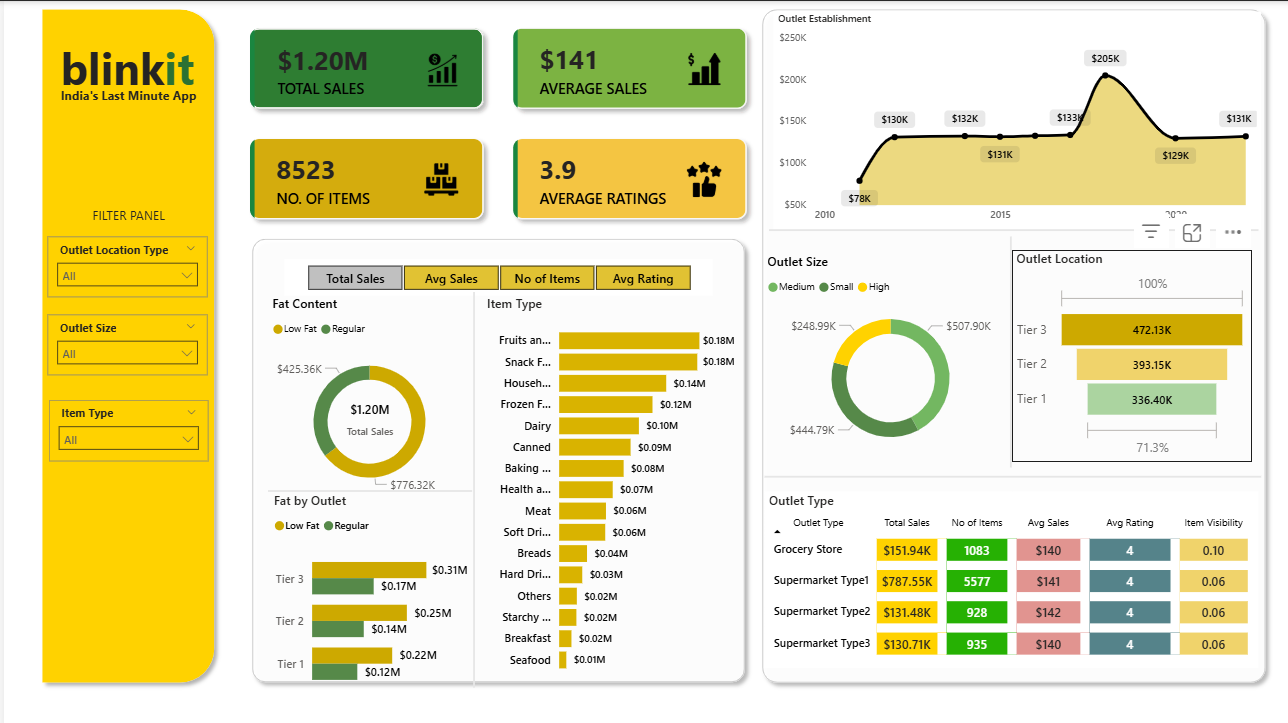

The page's visual inventory and layout, read from the dashboard file:
{"tool":"powerbi","page":{"name":"Page 1","canvas":[1400,800],"ordinal":0},"visuals":[{"type":"shape","box":[32.6,0,205,750],"z":0},{"type":"textbox","box":[48,34,174,84],"z":1000},{"type":"textbox","box":[10,88.8,251.2,37.5],"z":2000},{"type":"cardVisual","fields":{"Data":["BlinkIT Grocery Data.Total Sales","BlinkIT Grocery Data.Avg Sales","BlinkIT Grocery Data.No of Items","BlinkIT Grocery Data.Avg Rating"]},"box":[238.3,0,598.3,266.7],"z":3000},{"type":"shape","box":[261.7,250,553.3,500],"z":4000},{"type":"donutChart","title":"Fat Content","fields":{"Y":["BlinkIT Grocery Data.Total Sales"],"Category":["BlinkIT Grocery Data.Item Fat Content"]},"box":[287.8,320,220,230],"z":5000},{"type":"slicer","fields":{"Values":["Metrics.Metrics"]},"box":[305,280,465,40],"z":6000},{"type":"card","fields":{"Values":["BlinkIT Grocery Data.Total Sales"]},"box":[313.3,400,168.9,107.8],"z":7000},{"type":"clusteredBarChart","title":"Fat by Outlet ","fields":{"Y":["BlinkIT Grocery Data.Total Sales"],"Category":["BlinkIT Grocery Data.Outlet Location Type"],"Series":["BlinkIT Grocery Data.Item Fat Content"]},"box":[288.3,533.3,220,230],"z":8000},{"type":"shape","box":[286.5,515.1,221.9,34.8],"z":9000},{"type":"shape","box":[485,316.7,53.3,430],"z":10000},{"type":"barChart","title":"Item Type","fields":{"Y":["BlinkIT Grocery Data.Total Sales"],"Category":["BlinkIT Grocery Data.Item Type"]},"box":[520,320,278.6,420],"z":11000},{"type":"shape","box":[815,0,565,750],"z":12000},{"type":"lineChart","title":"Outlet Establishment","fields":{"Category":["BlinkIT Grocery Data.Outlet Establishment Year"],"Y":["BlinkIT Grocery Data.Total Sales"]},"box":[835.7,11.4,530,237.1],"z":13000},{"type":"shape","box":[831,231,532,35],"z":14000},{"type":"donutChart","title":"Outlet Size","fields":{"Y":["BlinkIT Grocery Data.Total Sales"],"Category":["BlinkIT Grocery Data.Outlet Size"]},"box":[824.4,273.3,276.7,226.7],"z":15000},{"type":"shape","box":[1075.6,256.7,36.7,251.1],"z":16000},{"type":"funnel","title":"Outlet Location","fields":{"Category":["BlinkIT Grocery Data.Outlet Location Type"],"Y":["Sum(BlinkIT Grocery Data.Sales)"]},"box":[1096,270,260,230],"z":17000},{"type":"shape","box":[826.4,500.2,539.9,33.1],"z":18000},{"type":"pivotTable","title":"Outlet Type","fields":{"Rows":["BlinkIT Grocery Data.Outlet Type"],"Values":["BlinkIT Grocery Data.Total Sales","BlinkIT Grocery Data.No of Items","BlinkIT Grocery Data.Avg Sales","BlinkIT Grocery Data.Avg Rating","Avg(BlinkIT Grocery Data.Item Visibility)"]},"box":[826.4,533.3,536.6,192.1],"z":19000},{"type":"slicer","fields":{"Values":["BlinkIT Grocery Data.Outlet Location Type"]},"box":[48,256.7,173.9,66.2],"z":20000},{"type":"slicer","fields":{"Values":["BlinkIT Grocery Data.Outlet Size"]},"box":[48,341.2,173.9,66.2],"z":21000},{"type":"slicer","fields":{"Values":["BlinkIT Grocery Data.Item Type"]},"box":[48.3,433.3,173.3,66.7],"z":22000},{"type":"textbox","box":[48.3,218.3,173.3,31.7],"z":23000}]}

Visuals, with their boxes in screenshot pixels (x1, y1, x2, y2), scaled from the page's 1400x800 canvas onto the 1288x723 screenshot:
shape: [30, 0, 219, 678]
textbox: [44, 31, 204, 107]
textbox: [9, 80, 240, 114]
cardVisual - BlinkIT Grocery Data.Total Sales x BlinkIT Grocery Data.Avg Sales: [219, 0, 770, 241]
shape: [241, 226, 750, 678]
"Fat Content" donutChart: [265, 289, 467, 497]
slicer - Metrics.Metrics: [281, 253, 708, 289]
card - BlinkIT Grocery Data.Total Sales: [288, 362, 444, 459]
"Fat by Outlet " clusteredBarChart: [265, 482, 468, 690]
shape: [264, 466, 468, 497]
shape: [446, 286, 495, 675]
"Item Type" barChart: [478, 289, 735, 669]
shape: [750, 0, 1270, 678]
"Outlet Establishment" lineChart: [769, 10, 1256, 225]
shape: [765, 209, 1254, 240]
"Outlet Size" donutChart: [758, 247, 1013, 452]
shape: [990, 232, 1023, 459]
"Outlet Location" funnel: [1008, 244, 1248, 452]
shape: [760, 452, 1257, 482]
"Outlet Type" pivotTable: [760, 482, 1254, 656]
slicer - BlinkIT Grocery Data.Outlet Location Type: [44, 232, 204, 292]
slicer - BlinkIT Grocery Data.Outlet Size: [44, 308, 204, 368]
slicer - BlinkIT Grocery Data.Item Type: [44, 392, 204, 452]
textbox: [44, 197, 204, 226]
